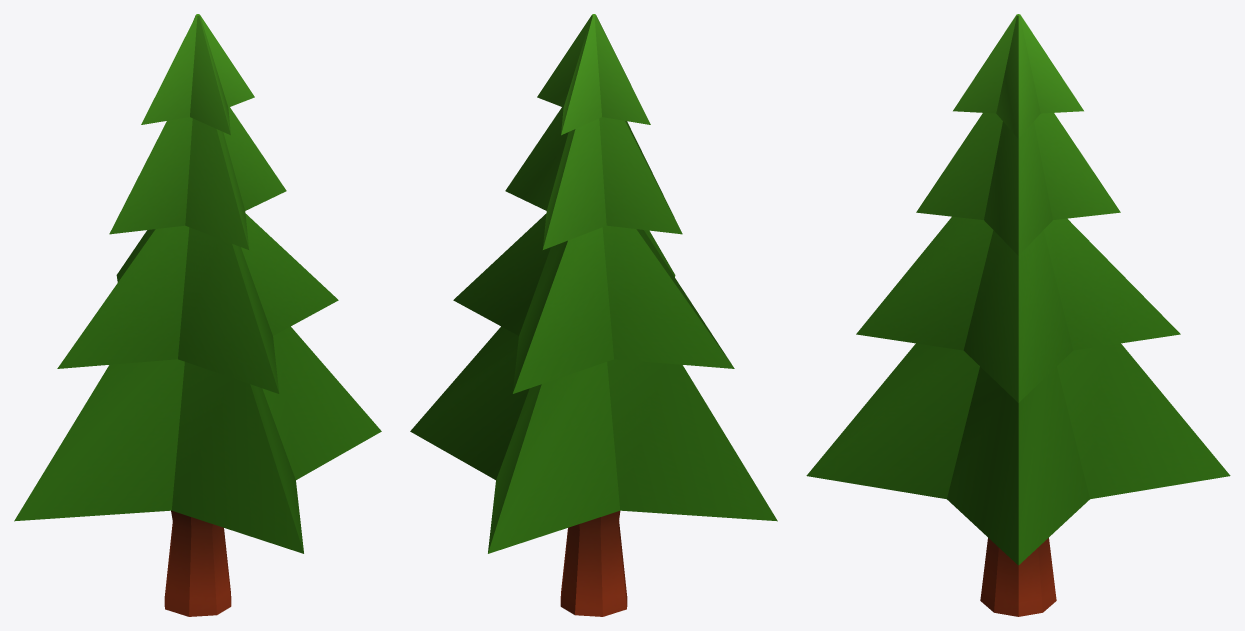
Rendered from Assets_Tree_Pine.fbx.
The picture shows the model from 3 angles, left to right: view 1: azimuth 30°, elevation 25°; view 2: azimuth 150°, elevation 25°; view 3: azimuth 270°, elevation 25°; orthographic projection.
Parts seen in each view (by area): view 1: Pine; view 2: Pine; view 3: Pine.
Part boxes in pixels (x1,y1,x2,y2): Pine: (14,14,381,616); Pine: (410,14,777,616); Pine: (806,14,1230,616).
Bounding box in the file's own units: 6.37 × 9.72 × 6.37.
1 material, 1 textured.
